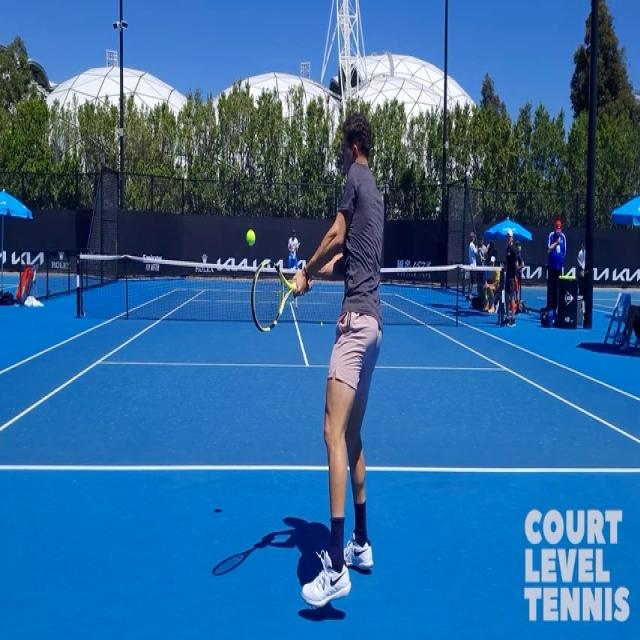backhand-stroke: (245, 110, 400, 626)
